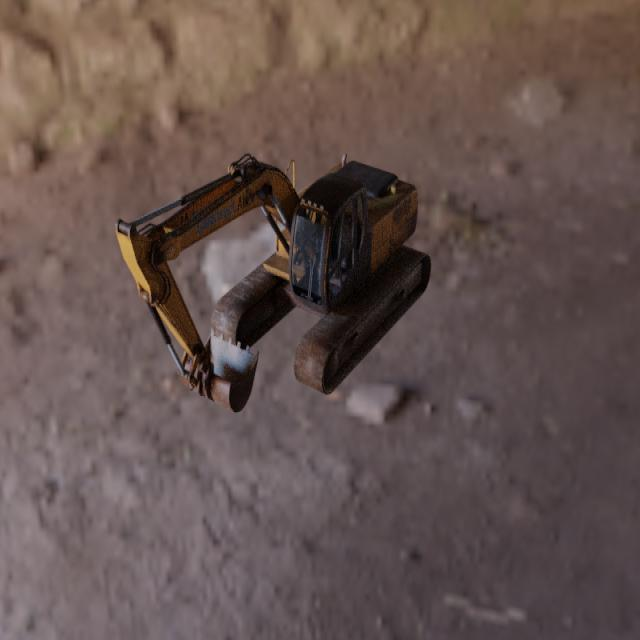excavator: (115, 152, 431, 413)
